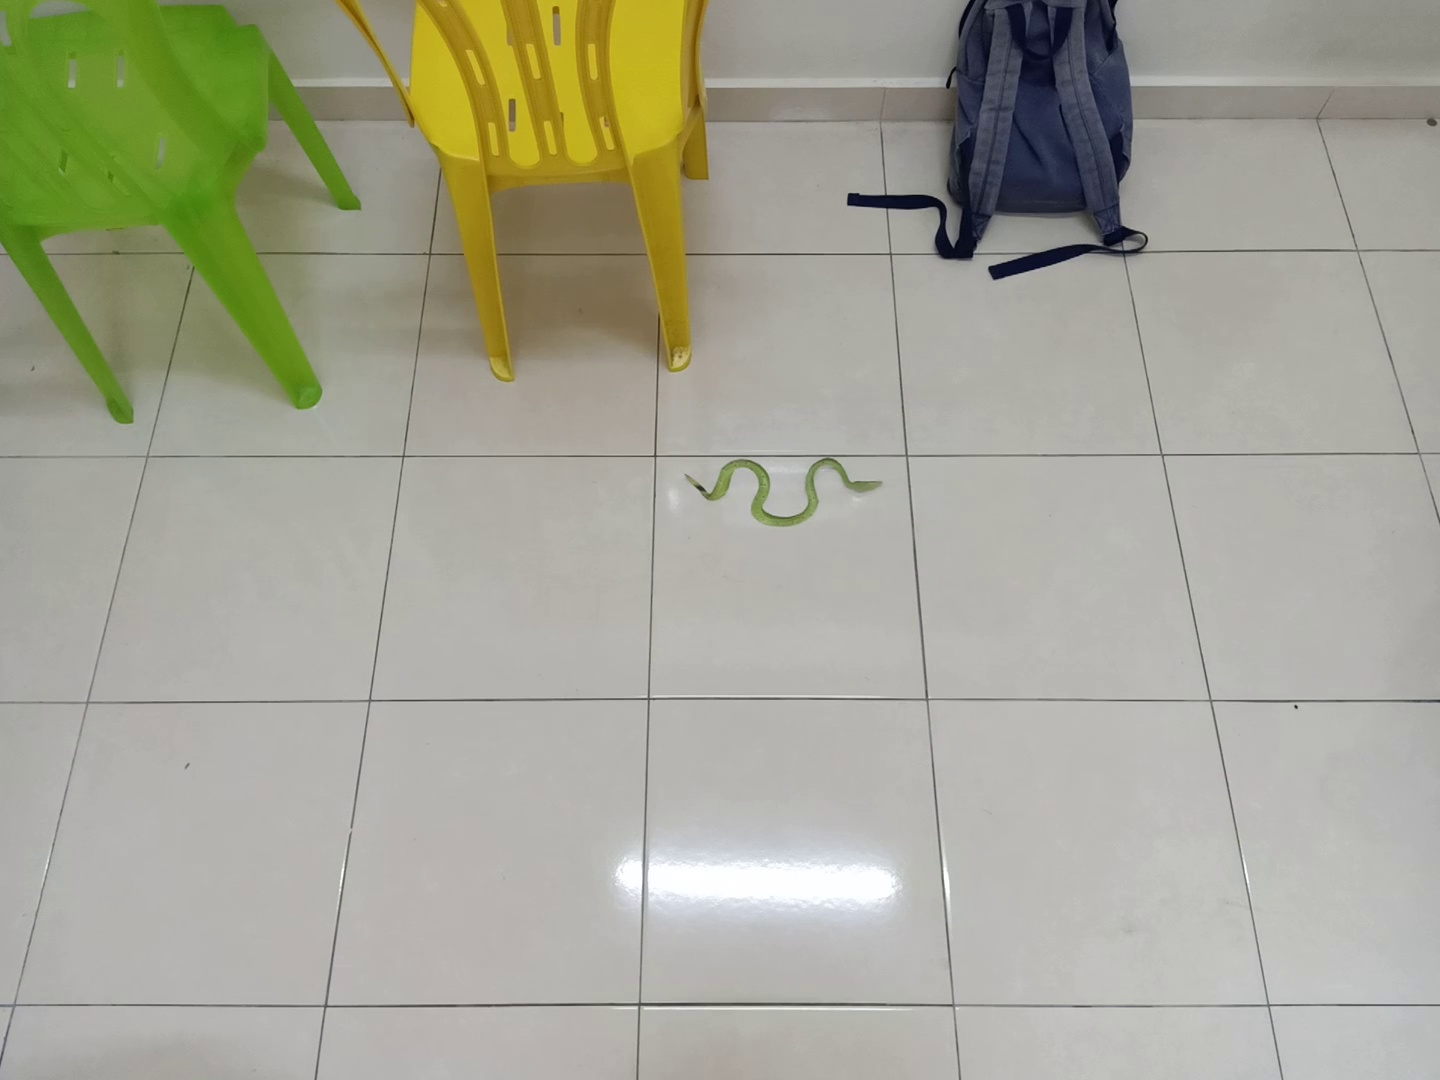snake: (677, 445, 895, 532)
